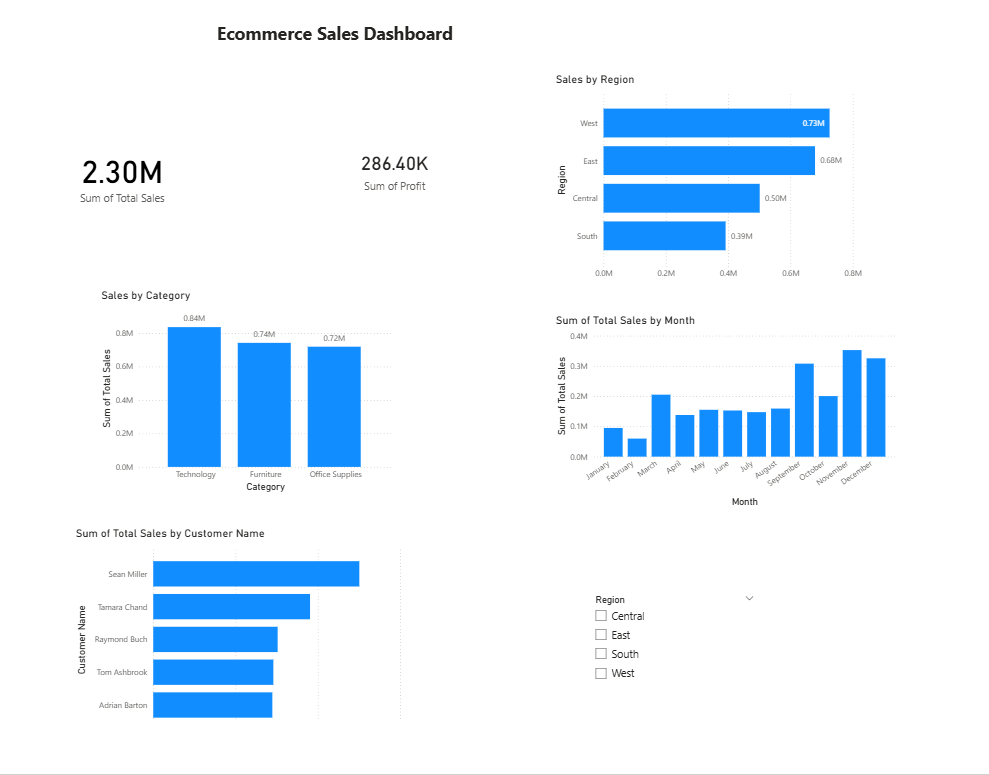

This screenshot's page, from the dashboard's own definition file:
{"tool":"powerbi","page":{"name":"Page 1","canvas":[1600,1600],"ordinal":0},"visuals":[{"type":"card","fields":{"Values":["Sum(Table1.Sales)"]},"box":[11.7,160,278.3,140],"z":0},{"type":"clusteredBarChart","title":"Sales by Region","fields":{"Category":["Table1.Region"],"Y":["Sum(Table1.Total Sales)"]},"box":[593.3,138.3,476.7,323.3],"z":1},{"type":"clusteredColumnChart","title":"Sales by Category","fields":{"Category":["Table1.Category"],"Y":["Sum(Table1.Total Sales)"]},"box":[46.7,406.7,448.3,313.3],"z":2},{"type":"slicer","fields":{"Values":["Table1.Region"]},"box":[668.3,871.7,265,161.7],"z":3},{"type":"textbox","box":[290,0,280,280],"z":4},{"type":"textbox","box":[365,55,381.7,51.7],"z":5},{"type":"card","fields":{"Values":["Sum(Table1.Profit)"]},"box":[271.7,173.3,285,126.7],"z":6},{"type":"lineStackedColumnComboChart","fields":{"Category":["Table1.Order Date.Variation.Date Hierarchy.Month"],"Y":["Sum(Table1.Total Sales)"]},"box":[546.7,476.7,523.3,296.7],"z":7},{"type":"clusteredBarChart","fields":{"Category":["Table1.Customer Name"],"Y":["Sum(Table1.Total Sales)"]},"box":[36.7,826.7,510,353.3],"z":8}]}

Visuals, with their boxes on the page's 1600x1600 design canvas (x1, y1, x2, y2). These are canvas units, not pixel positions in the 989x775 screenshot, which may show the page scaled, cropped or inside an application window:
card - Sum(Table1.Sales): {"x1": 12, "y1": 160, "x2": 290, "y2": 300}
"Sales by Region" clusteredBarChart: {"x1": 593, "y1": 138, "x2": 1070, "y2": 462}
"Sales by Category" clusteredColumnChart: {"x1": 47, "y1": 407, "x2": 495, "y2": 720}
slicer - Table1.Region: {"x1": 668, "y1": 872, "x2": 933, "y2": 1033}
textbox: {"x1": 290, "y1": 0, "x2": 570, "y2": 280}
textbox: {"x1": 365, "y1": 55, "x2": 747, "y2": 107}
card - Sum(Table1.Profit): {"x1": 272, "y1": 173, "x2": 557, "y2": 300}
lineStackedColumnComboChart - Table1.Order Date.Variation.Date Hierarchy.Month x Sum(Table1.Total Sales): {"x1": 547, "y1": 477, "x2": 1070, "y2": 773}
clusteredBarChart - Table1.Customer Name x Sum(Table1.Total Sales): {"x1": 37, "y1": 827, "x2": 547, "y2": 1180}
